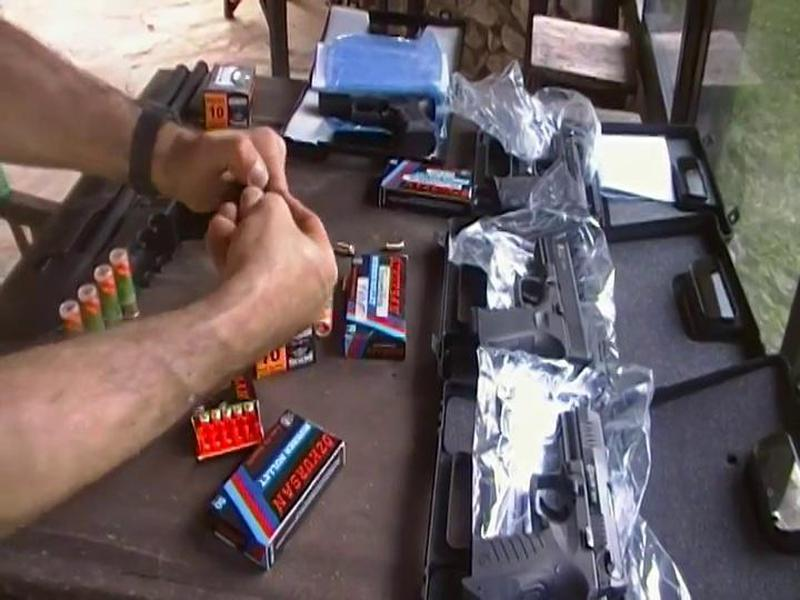Pistola: (444, 395, 635, 600), (452, 228, 610, 371)
